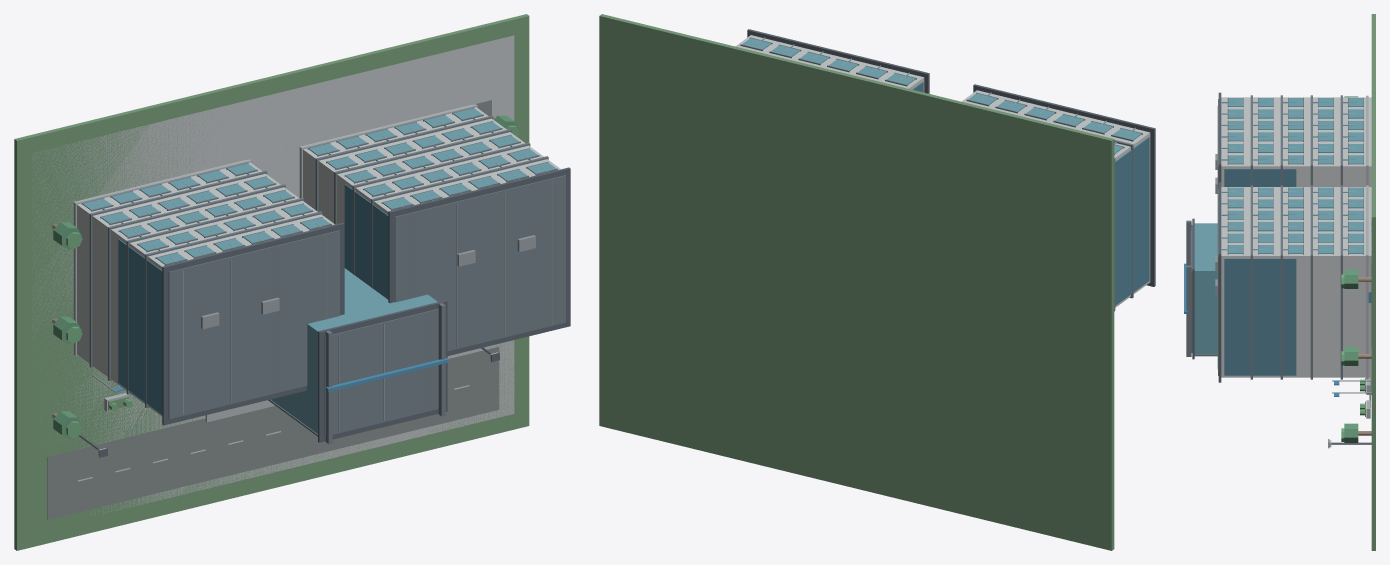
The model's file is commercial_building_level_5.glb.
The picture shows the model from 3 angles, left to right: view 1: azimuth 30°, elevation 25°; view 2: azimuth 150°, elevation 25°; view 3: azimuth 270°, elevation 25°; orthographic projection. The views are drawn at different scales.
Parts seen in each view (by area): view 1: part_00000, part_00001, part_00061, part_00315, part_00002, part_00054, part_00577, part_00308, part_00306, part_00562, part_00560, part_00060 (+15 smaller); view 2: part_00000, part_00306, part_00054, part_00060, part_00308, part_00314; view 3: part_00308, part_00561, part_00054, part_00562, part_00000, part_00307, part_00314, part_00311, part_00312, part_00313, part_00309, part_00310 (+12 smaller).
Boxes of the visible parts, x1,y1,x2,y2 form: part_00000: (14,14,529,550); part_00001: (32,35,514,515); part_00061: (168,230,339,419); part_00315: (395,175,565,351); part_00002: (47,346,499,519); part_00054: (73,160,334,416); part_00577: (324,309,438,436); part_00308: (299,104,560,223); part_00306: (118,239,162,414); part_00562: (271,268,437,433); part_00560: (344,184,388,299); part_00060: (162,222,344,425); part_00000: (599,14,1114,550); part_00306: (1115,137,1149,305); part_00054: (962,90,1150,307); part_00060: (973,84,1155,286); part_00308: (735,35,924,92); part_00314: (747,29,929,93); part_00308: (1221,187,1371,377); part_00561: (1224,258,1296,375); part_00054: (1221,97,1371,186); part_00562: (1194,223,1217,354); part_00000: (1371,14,1375,550); part_00307: (1224,169,1296,186); part_00314: (1218,182,1221,382); part_00311: (1310,185,1312,379); part_00312: (1280,185,1282,379); part_00313: (1250,185,1252,379); part_00309: (1366,185,1368,379); part_00310: (1340,185,1342,379).
Size of the model in its own units: 68 by 52 by 27.1.
